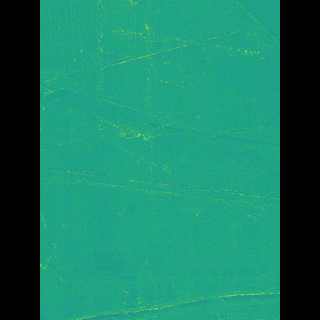Loch: (69, 68, 249, 177), (97, 239, 251, 320), (69, 158, 250, 215)
